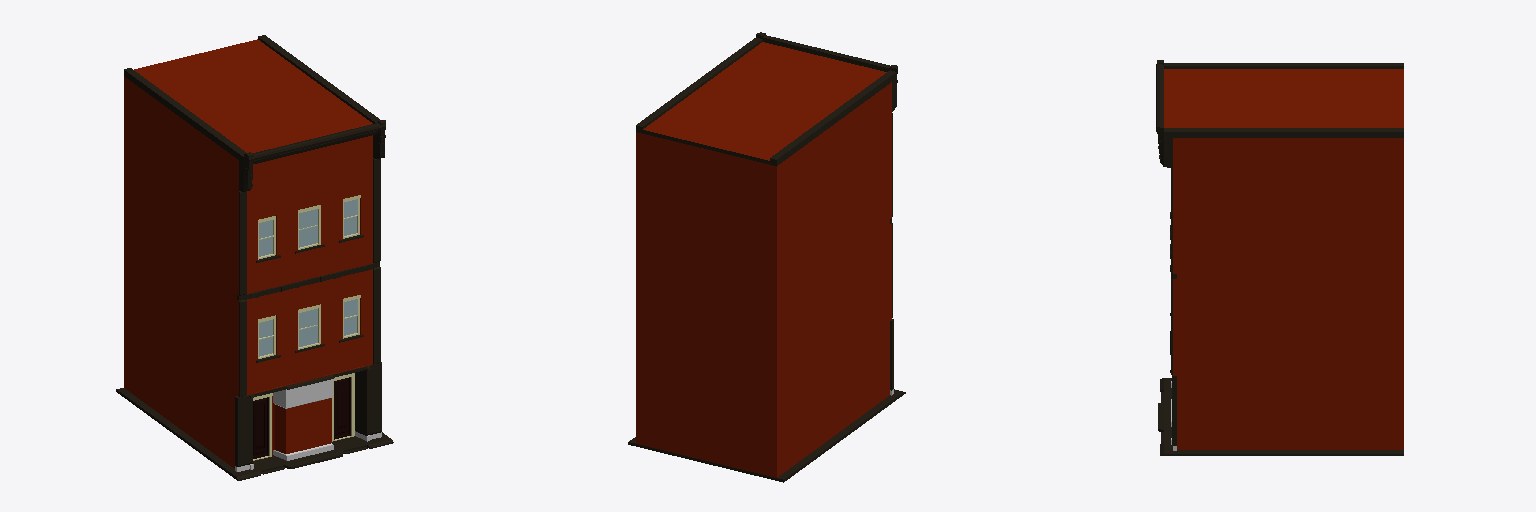
Rendered from building.obj.
The picture shows the model from 3 angles: view 1: azimuth 30°, elevation 25°; view 2: azimuth 150°, elevation 25°; view 3: azimuth 270°, elevation 25°; orthographic projection.
Parts seen in each view (by area): view 1: Cube.011; view 2: Cube.011; view 3: Cube.011.
Boxes of the visible parts, x1=… form: Cube.011: x1=116, y1=35, x2=393, y2=480; Cube.011: x1=628, y1=32, x2=905, y2=482; Cube.011: x1=1156, y1=60, x2=1403, y2=455.
Size of the model in its own units: 9.36 by 18.7 by 12.9.